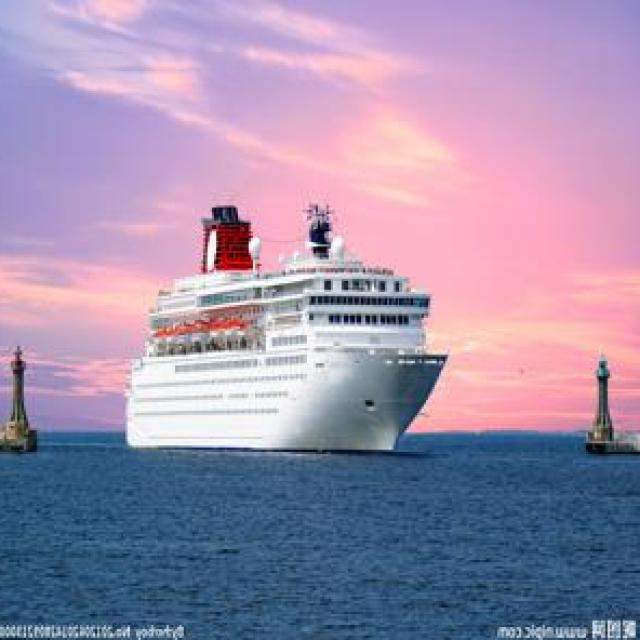passenger ship: (122, 183, 456, 470)
